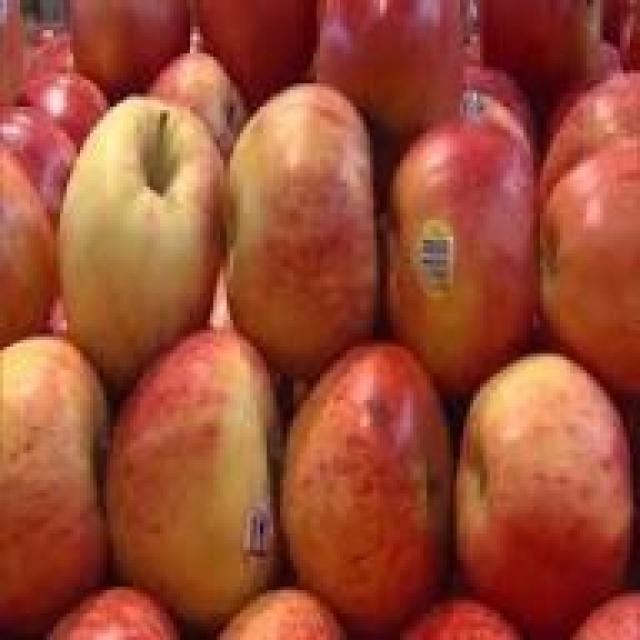apple: (280, 330, 450, 607), (103, 320, 270, 580), (460, 356, 633, 606), (223, 80, 380, 343), (63, 97, 217, 363), (383, 110, 540, 340), (543, 84, 640, 344)
